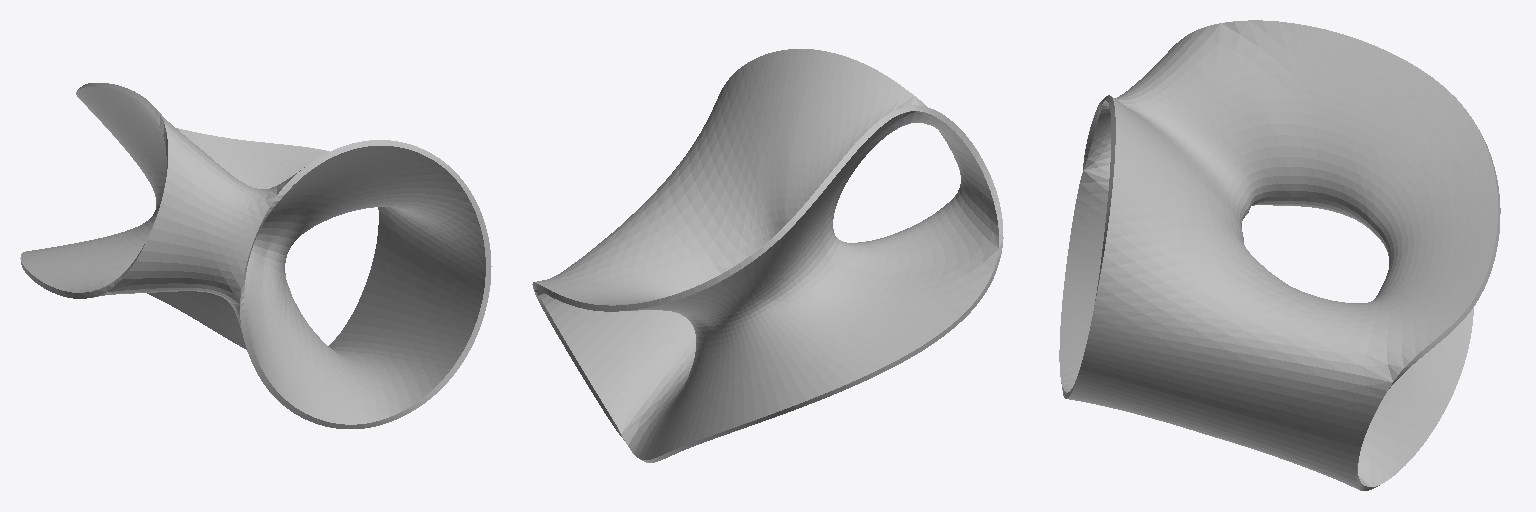
URDF robot description (root):
<?xml version='1.0' encoding='utf-8'?>
<robot name="root">
  <link name="link_001">
    <visual>
      <origin xyz="0 0 0" rpy="0 0 0" />
      <geometry>
        <mesh filename="1d5f0c4d34447bb570f10fbf144f25f34c4c8618c92e9cb4eb5d6b5475efa647_scale_005.stl" scale="1.0000E+00 1.0000E+00 1.0000E+00" />
      </geometry>
      <material name="">
        <color rgba="7.50E-01 7.50E-01 7.50E-01 1" />
      </material>
    </visual>
    <collision>
      <origin xyz="0 0 0" rpy="0 0 0" />
      <geometry>
        <mesh filename="1d5f0c4d34447bb570f10fbf144f25f34c4c8618c92e9cb4eb5d6b5475efa647_scale_005.stl" scale="1.0000E+00 1.0000E+00 1.0000E+00" />
      </geometry>
    </collision>
  </link>
</robot>

--- Facts derived from the render (not from the file) ---
3 views of the same robot in one strip: view 1: azimuth 30°, elevation 25°; view 2: azimuth 150°, elevation 25°; view 3: azimuth 270°, elevation 25° (orthographic).
Robot: root — 1 links, 0 joints (none); root link link_001; default pose: every joint at zero.
Visible links, largest first — view 1: link_001; view 2: link_001; view 3: link_001.
Link boxes in pixels (box(x1,y1,x2,y2)): link_001: box(20, 83, 491, 428); link_001: box(532, 49, 1003, 462); link_001: box(1059, 20, 1500, 490).
Size in the robot's own frame: 0.1305 by 0.1261 by 0.1156 metres.
1 mesh visuals loaded from 1 distinct referenced files (1 binary STL).
